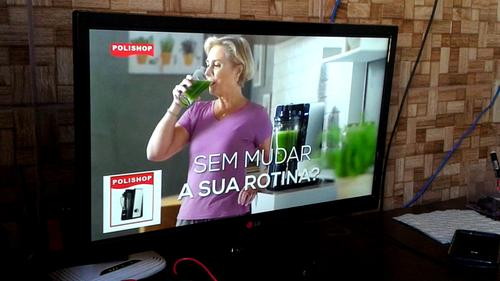Polishop #1: (103, 169, 162, 234)
